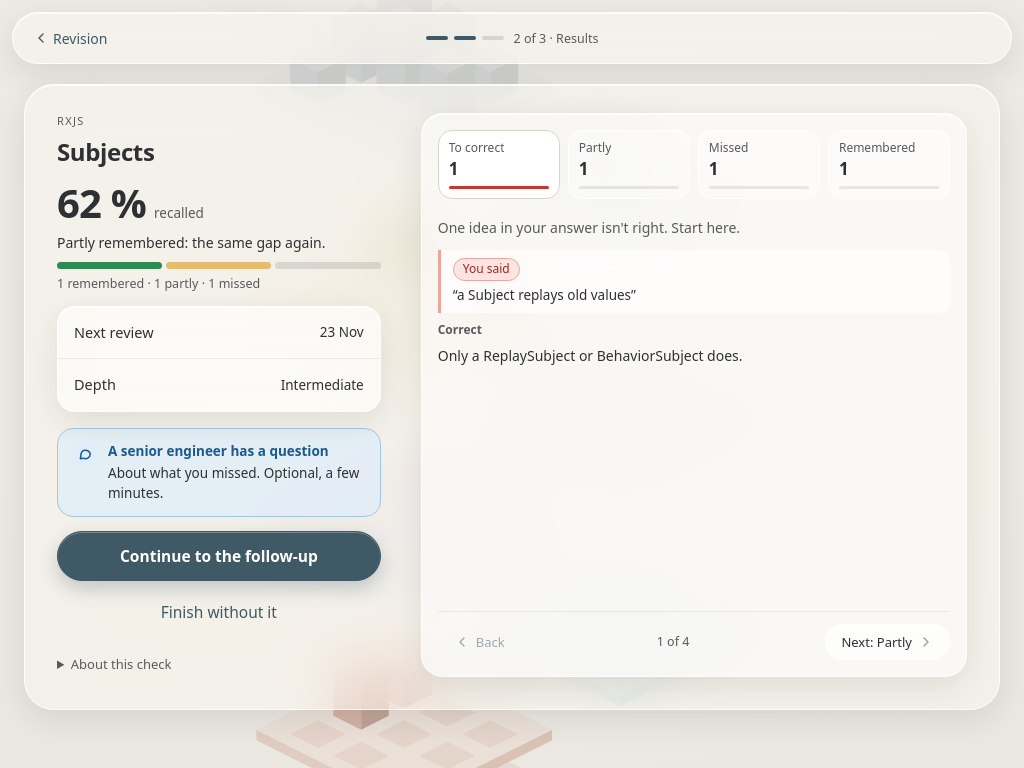
recall page › can also skip from the follow-up itself
Click the button "Continue to the follow-up": [219, 556] box x1=57 y1=530 x2=381 y2=580
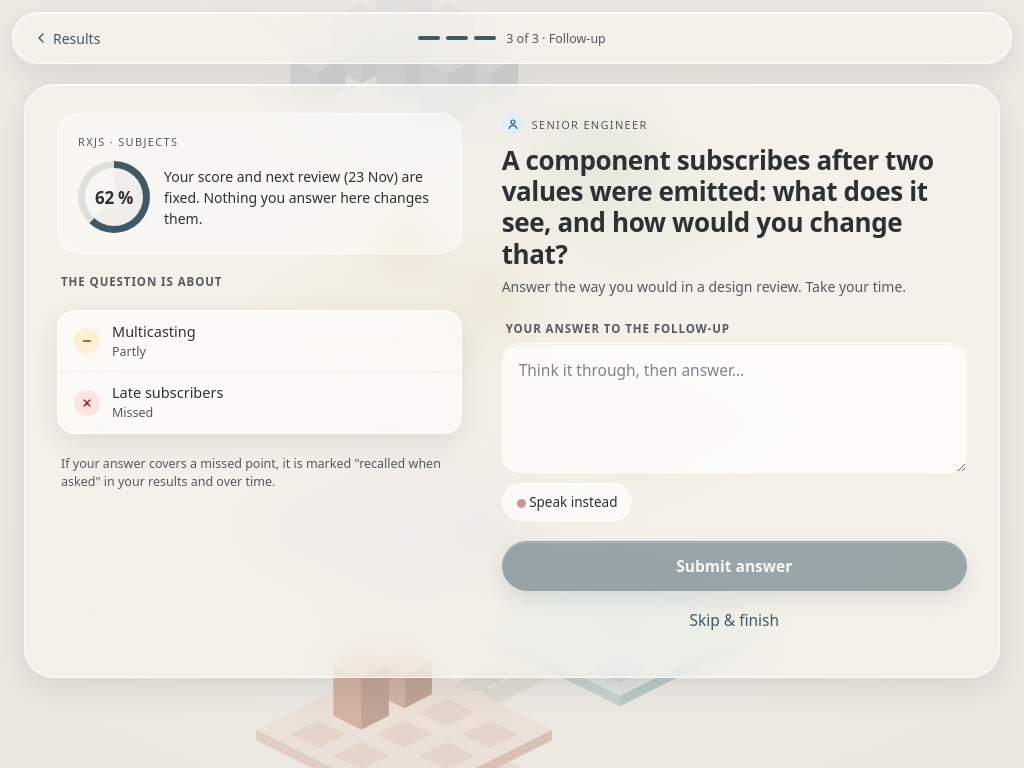
Click the button "Skip & finish": [734, 620] box x1=502 y1=595 x2=967 y2=645
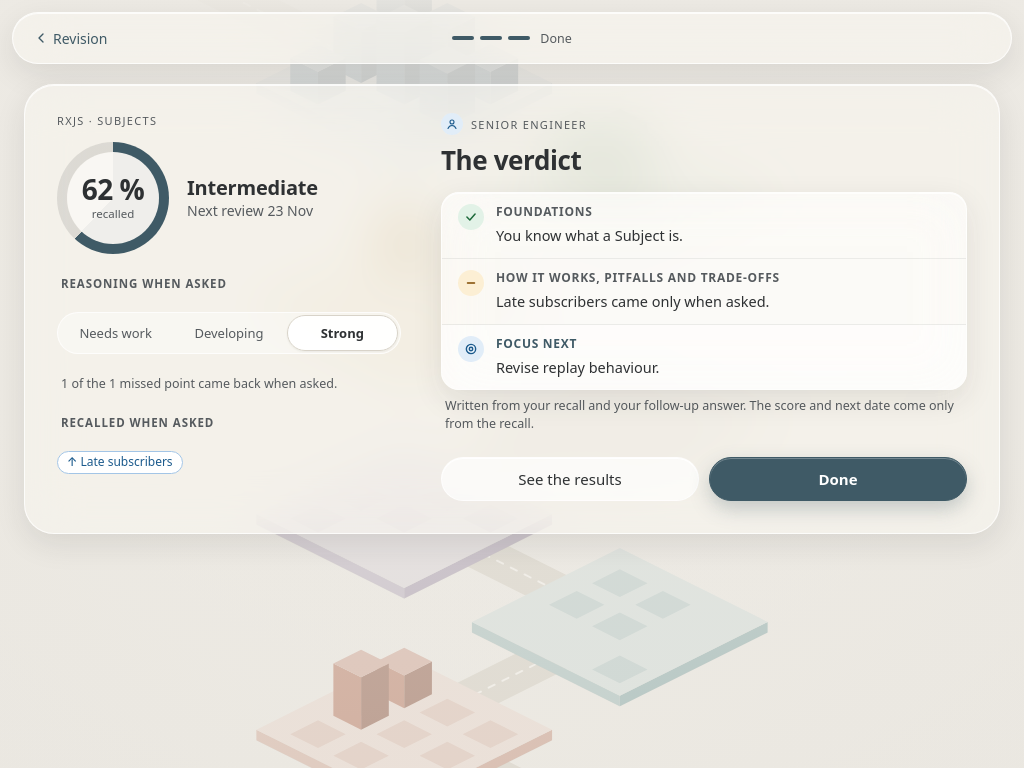
Result: the list named "Senior engineer's verdict" is shown at x1=441 y1=192 x2=967 y2=390
